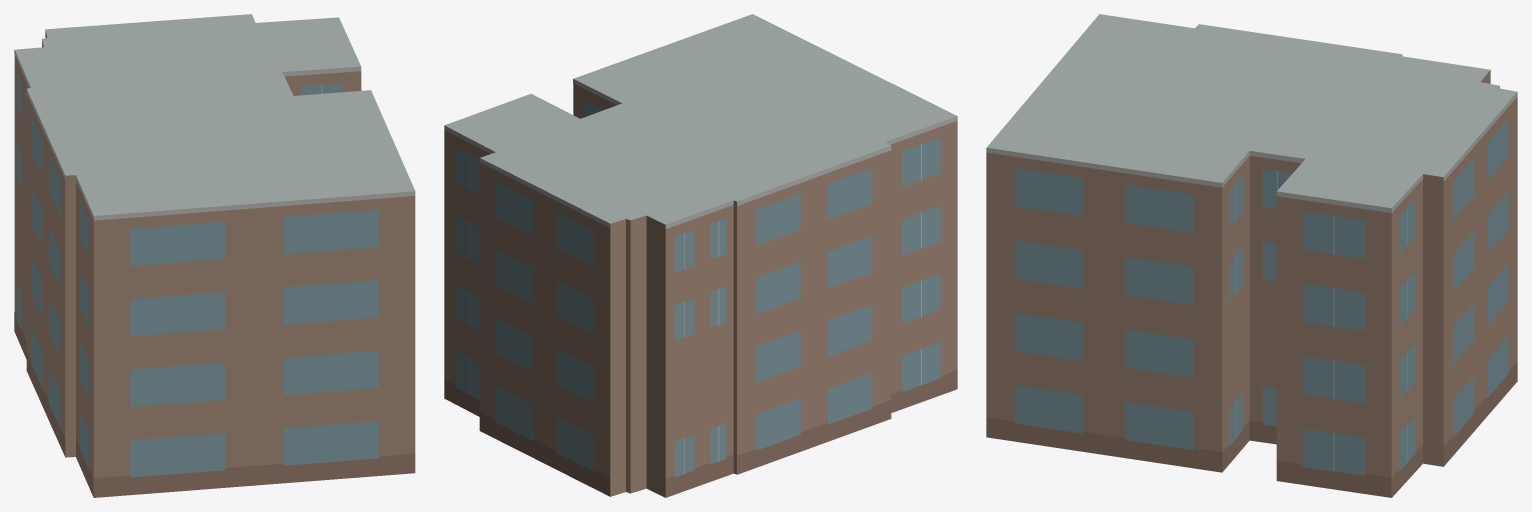
File: survey-upis-32867097.glb
3 renders of one model, left to right at view 1: azimuth 30°, elevation 25°; view 2: azimuth 150°, elevation 25°; view 3: azimuth 270°, elevation 25°, orthographic. The views are drawn at different scales.
Visible parts, largest first — view 1: survey-upis-32867097.tmp; view 2: survey-upis-32867097.tmp; view 3: survey-upis-32867097.tmp.
Boxes of the visible parts, bbox=[...] form: survey-upis-32867097.tmp: bbox=[14, 14, 415, 497]; survey-upis-32867097.tmp: bbox=[444, 14, 957, 497]; survey-upis-32867097.tmp: bbox=[986, 14, 1517, 497].
Size of the model in its own units: 21.16 by 14.7 by 24.44.
